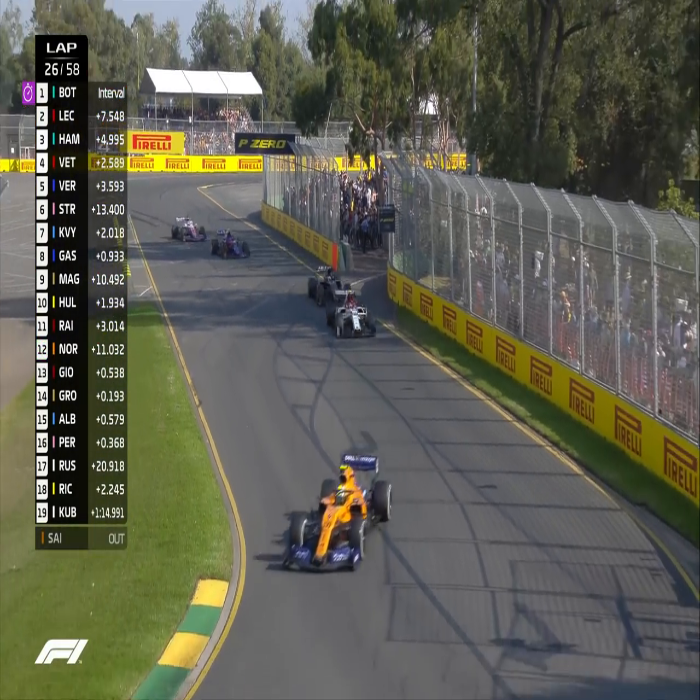f1_car: (271, 441, 408, 588), (328, 282, 378, 341), (205, 221, 251, 265), (166, 209, 208, 249)
